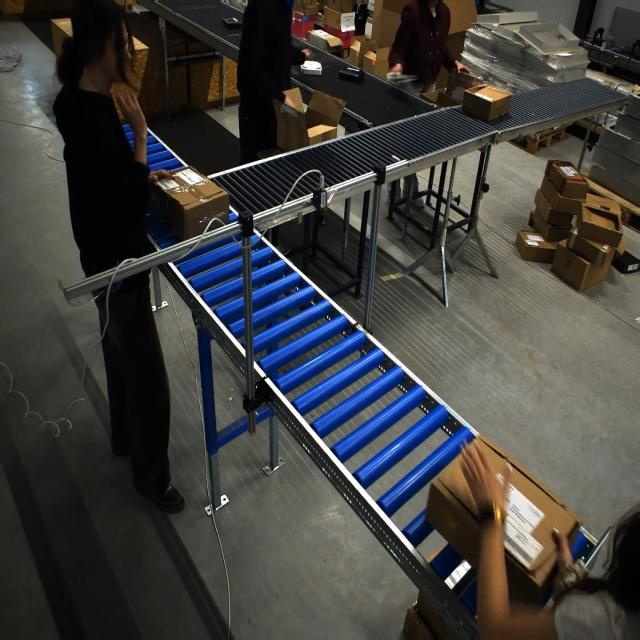box: (420, 428, 578, 591), (150, 166, 230, 241), (518, 20, 583, 55), (461, 84, 513, 123)
product: (338, 67, 363, 82), (221, 16, 242, 28)
